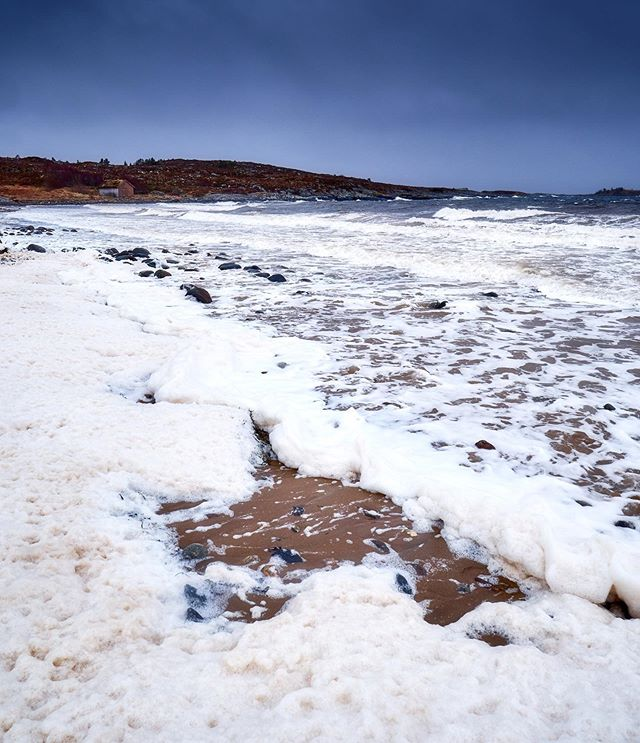sea: (63, 203, 640, 743)
sky: (1, 1, 616, 174)
